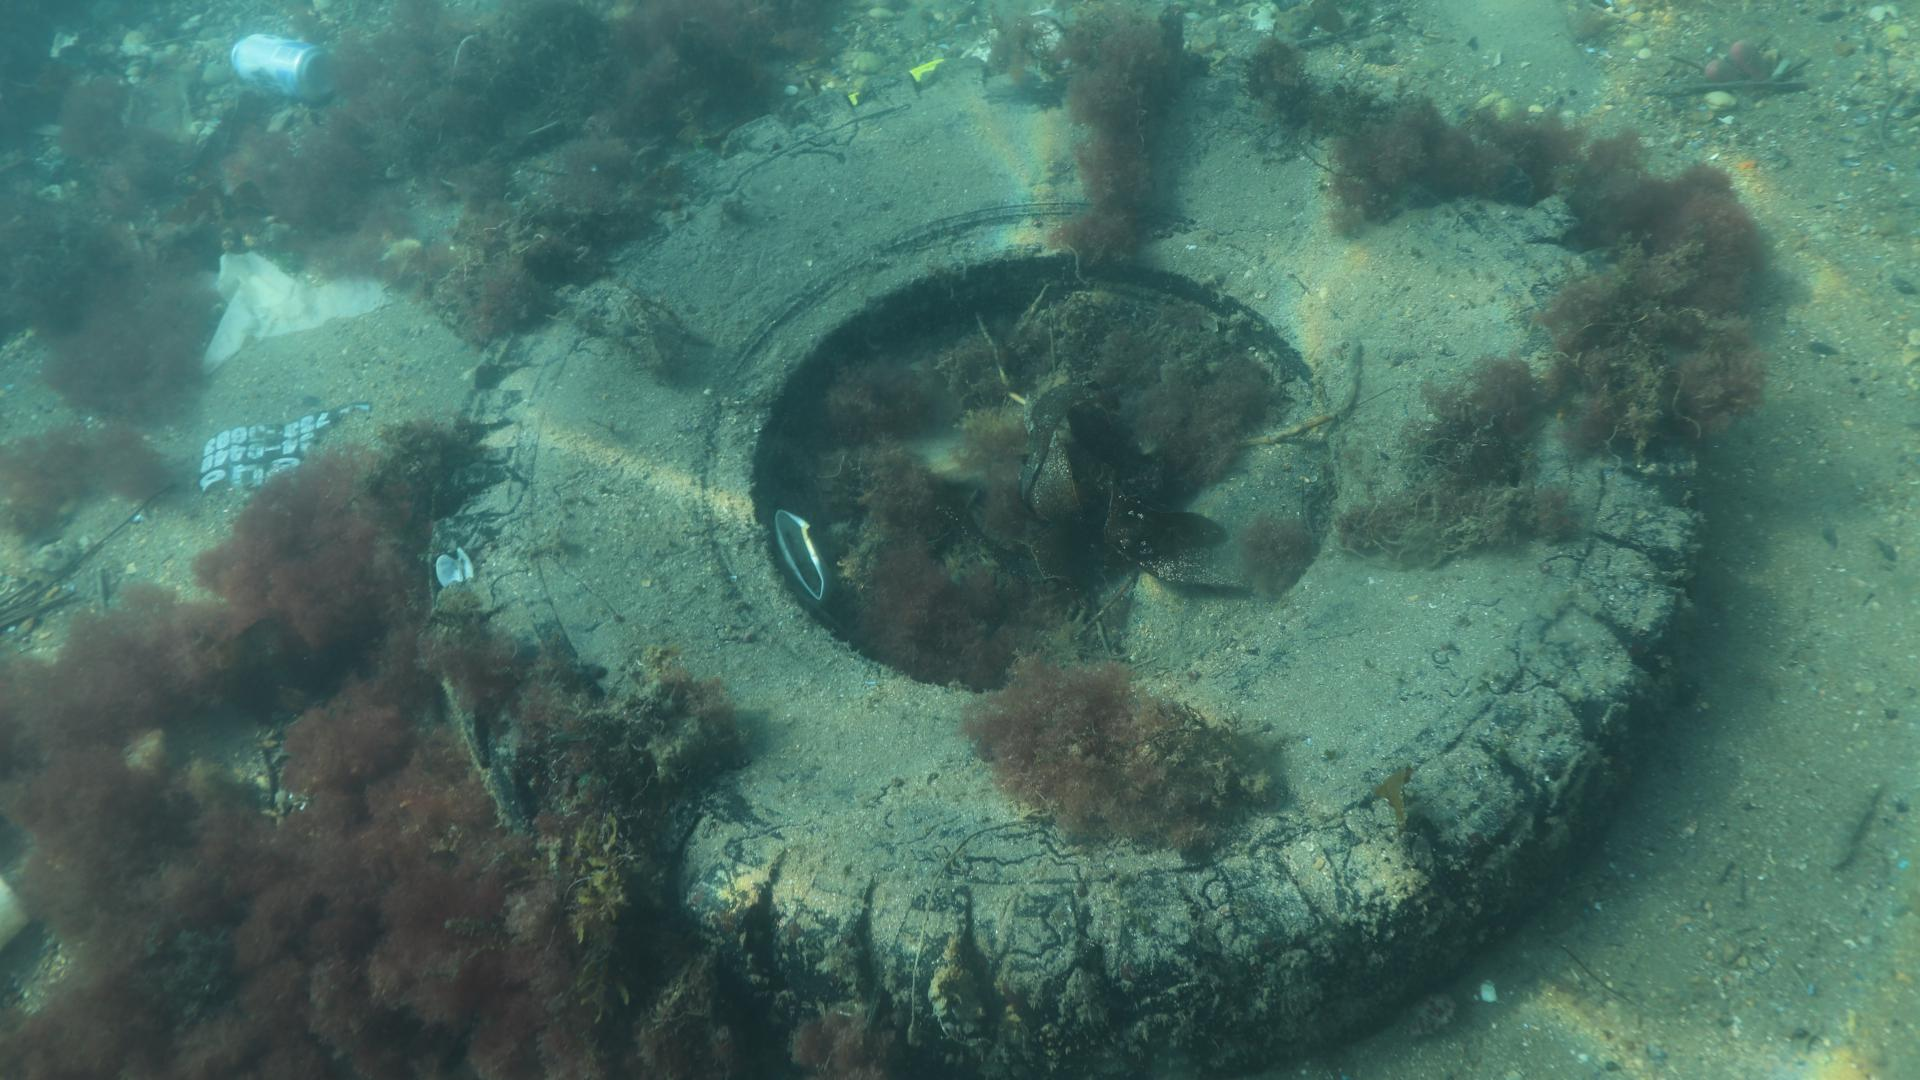tire: (426, 49, 1698, 1079)
